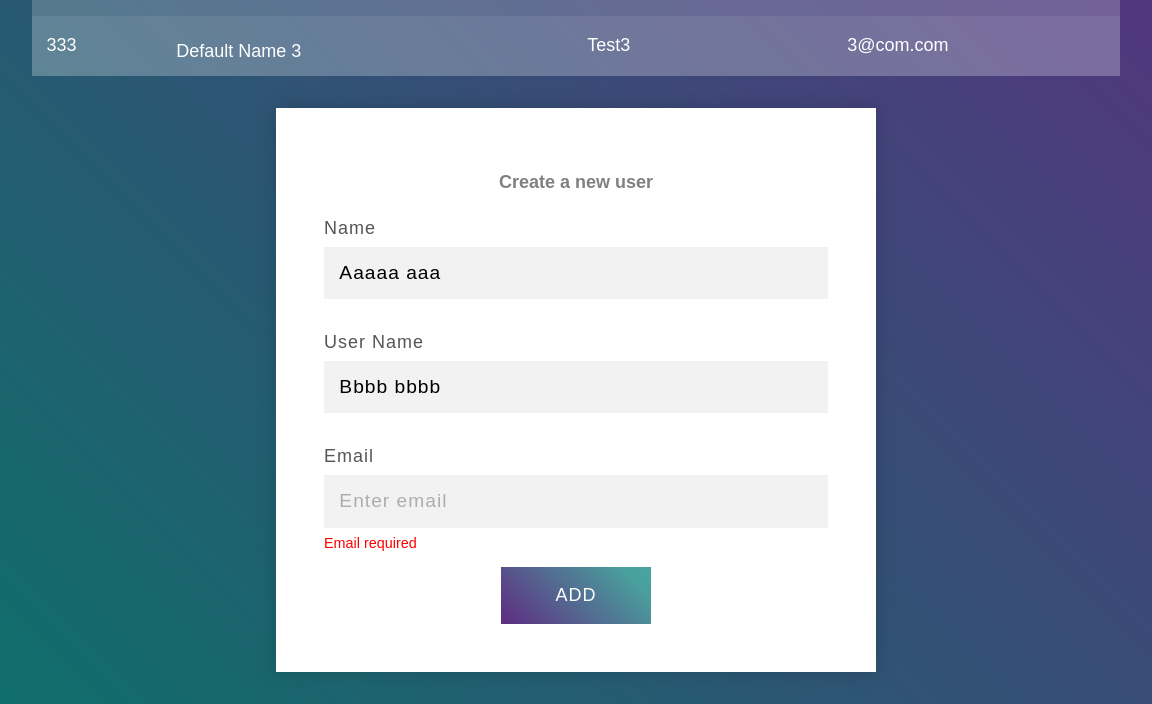
Scenario: Form validation test › Test for all inputs
(page scrolled)
Type "Cccc ccc cc" into the field with placeholder "Enter email".
click(576, 501); type("Cccc ccc cc")  # box [324,475,828,528]
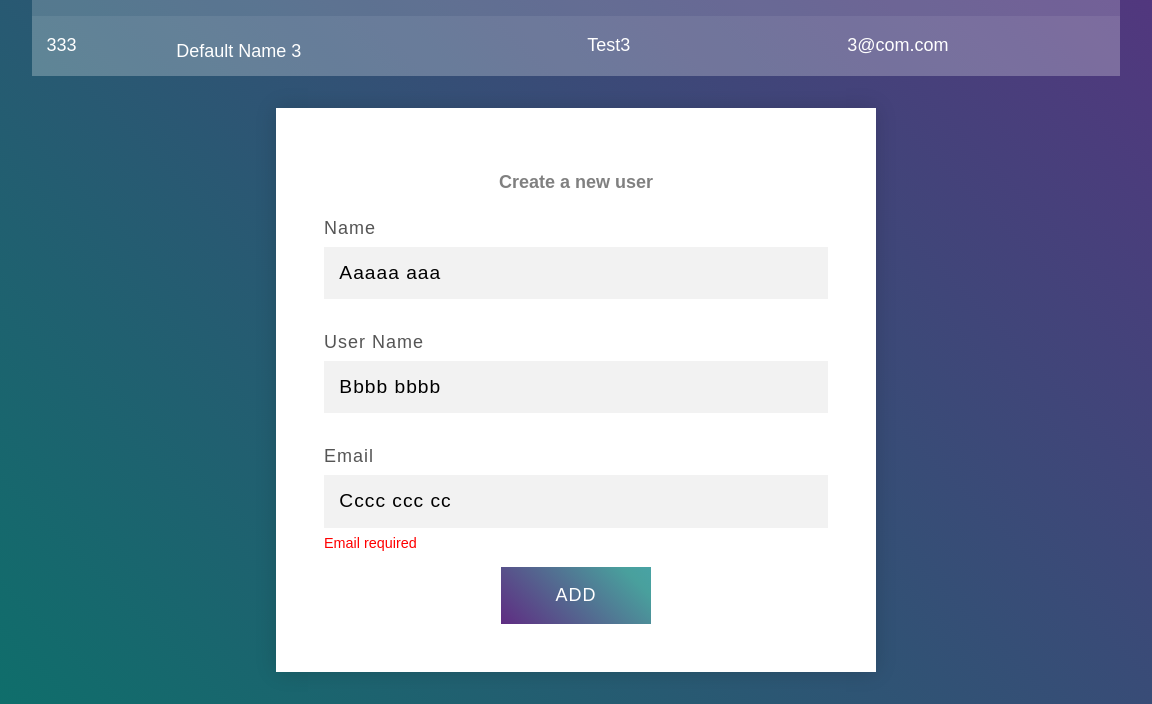
Click the button "Add".
click(576, 596)  # box [501,567,651,624]
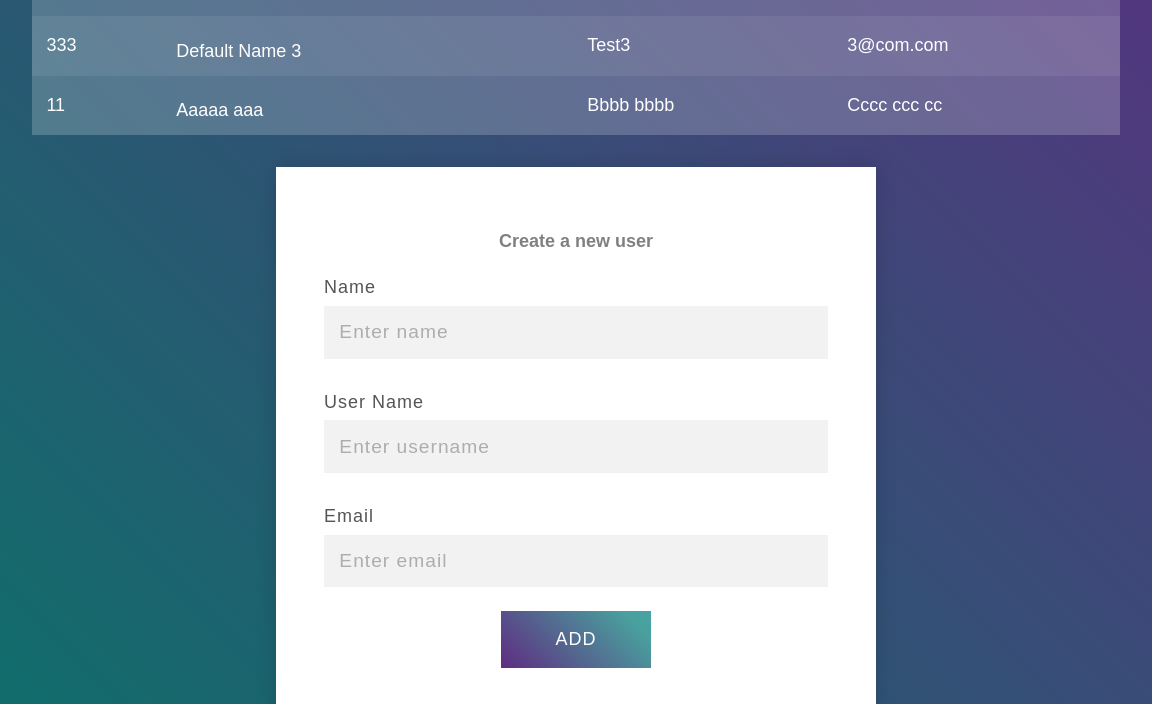
Now the text "Email required" is gone
